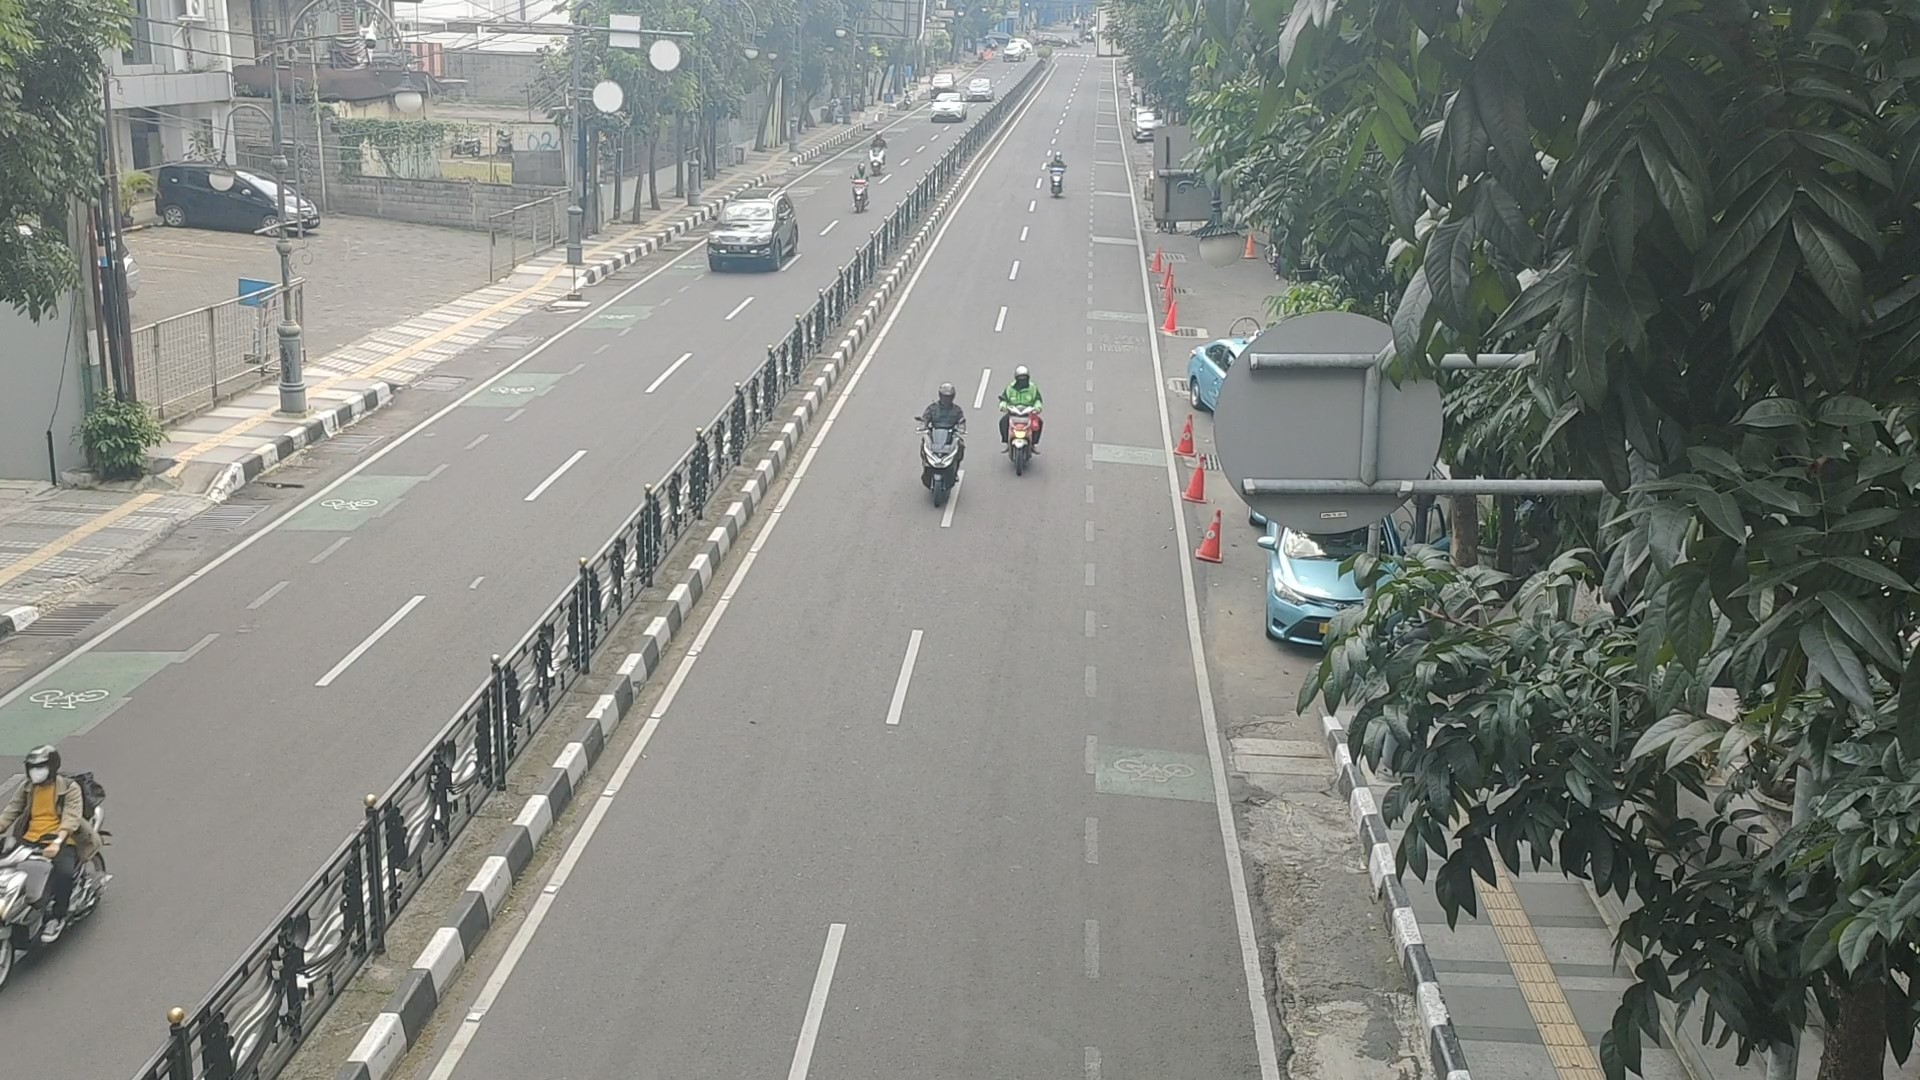mobil: (702, 181, 804, 280), (996, 361, 1043, 483), (927, 94, 968, 127)
motor: (913, 382, 971, 510), (1044, 149, 1071, 200), (847, 166, 873, 218), (865, 127, 887, 170)
